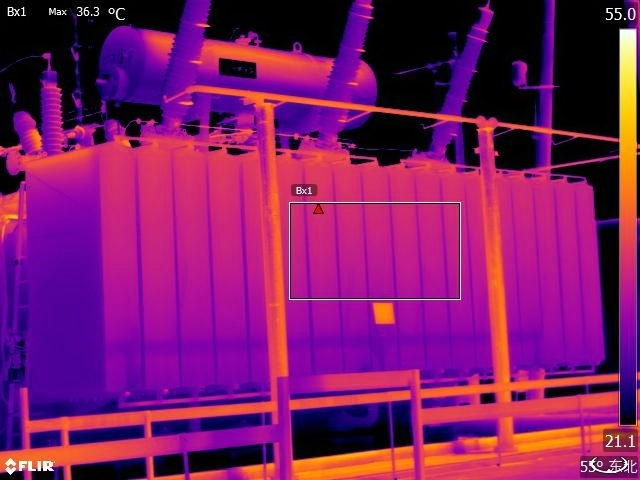oil conservator: (84, 21, 387, 136)
transformer: (17, 133, 609, 411)
tube: (311, 1, 381, 141), (430, 6, 494, 146), (159, 1, 215, 116), (35, 61, 70, 161), (10, 98, 44, 153)
